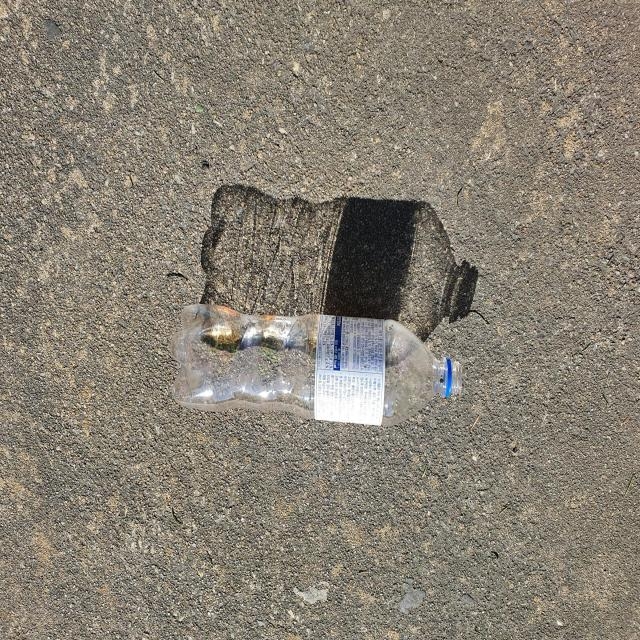plastic: (171, 304, 463, 426)
